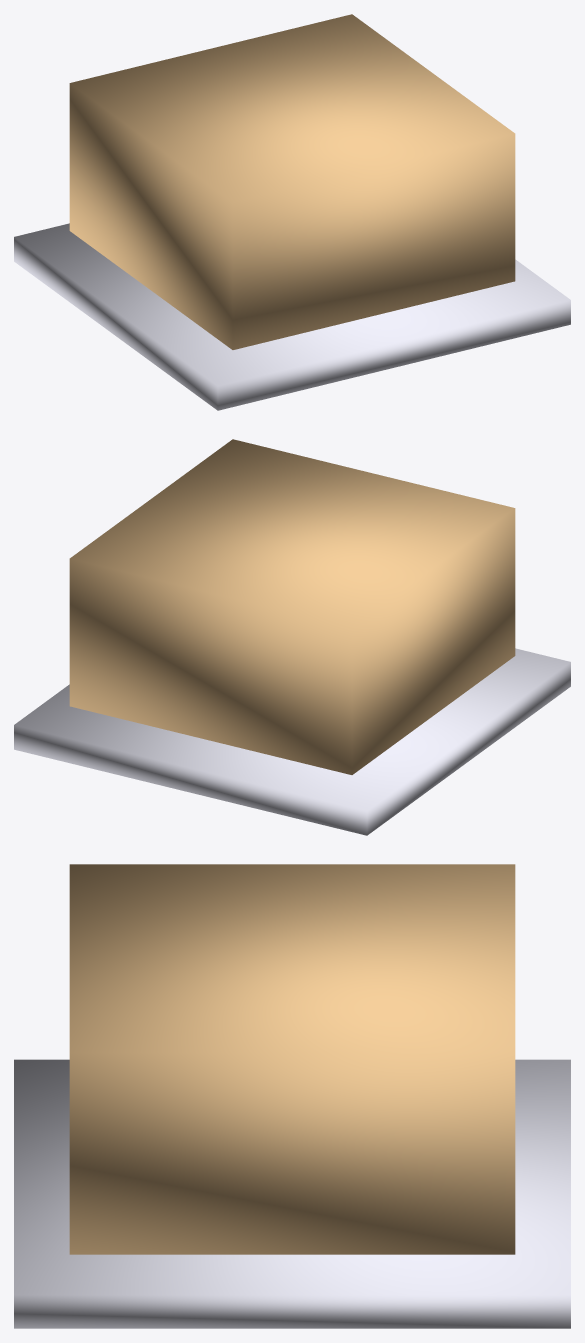
File: square_shape.glb
The picture shows the model from 3 angles, top to bottom: view 1: azimuth 30°, elevation 25°; view 2: azimuth 150°, elevation 25°; view 3: azimuth 270°, elevation 25°; orthographic projection. The views are drawn at different scales.
Visible parts, largest first — view 1: CakeBase, IcingStand; view 2: CakeBase, IcingStand; view 3: CakeBase, IcingStand.
Boxes of the visible parts, left/top/right/bottom form: CakeBase: left=69, top=14, right=515, bottom=349; IcingStand: left=14, top=223, right=570, bottom=410; CakeBase: left=69, top=439, right=515, bottom=774; IcingStand: left=14, top=648, right=570, bottom=835; CakeBase: left=69, top=864, right=515, bottom=1254; IcingStand: left=14, top=1059, right=570, bottom=1328.
Size of the model in its own units: 3 by 1.5 by 3.
